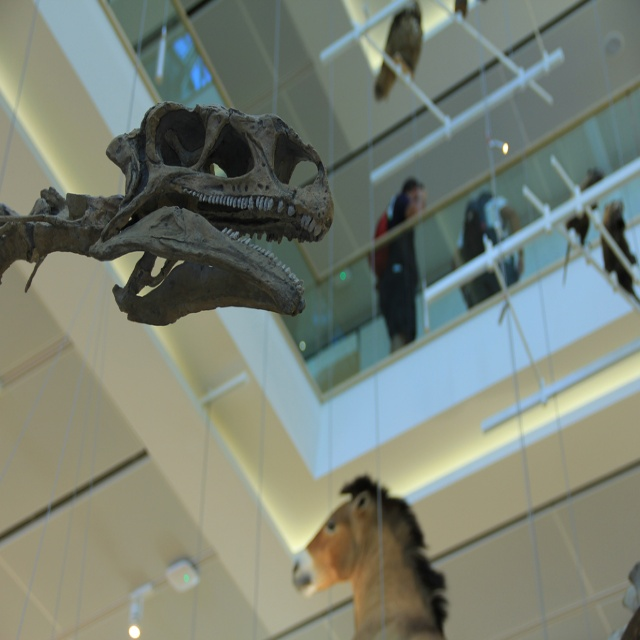Horse: (291, 476, 449, 639)
